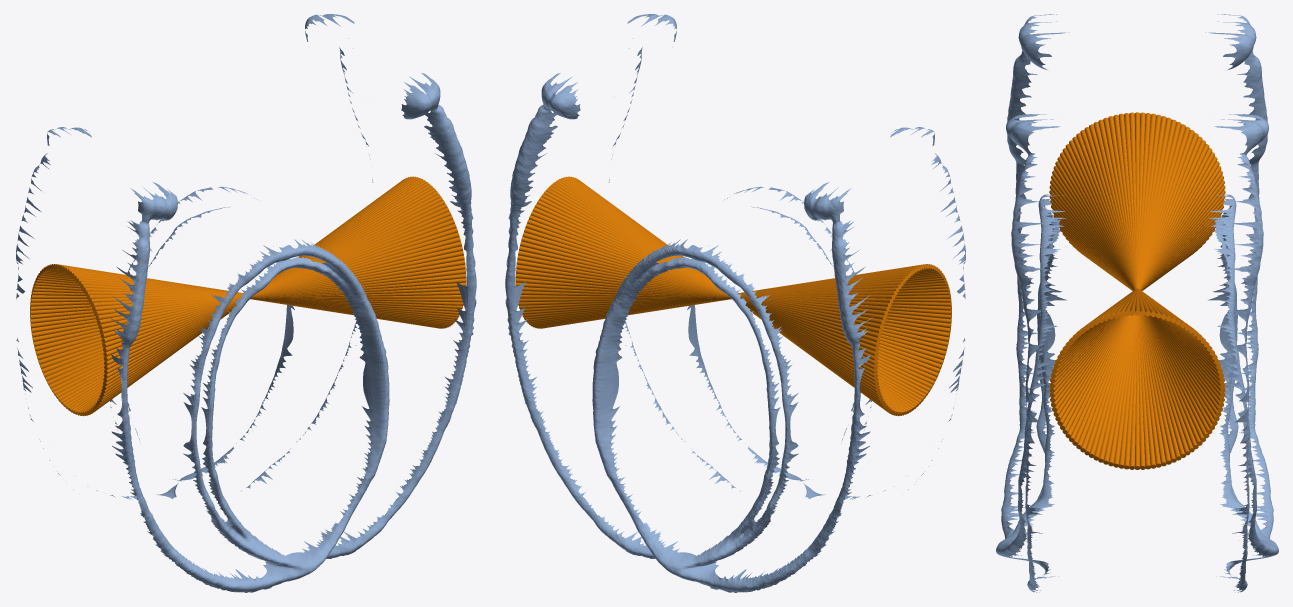
Rendered from A60026429-4_5995-37-523-8230_DigitalTwin.glb.
3 renders of one model, left to right at view 1: azimuth 30°, elevation 25°; view 2: azimuth 150°, elevation 25°; view 3: azimuth 270°, elevation 25°, orthographic. The views are drawn at different scales.
Visible parts, largest first — view 1: world; view 2: world; view 3: world.
Part boxes in pixels (x1,y1,x2,y2): world: (16,14,476,592); world: (505,14,965,592); world: (996,14,1278,592).
Bounding box in the file's own units: 337 × 407 × 202.
